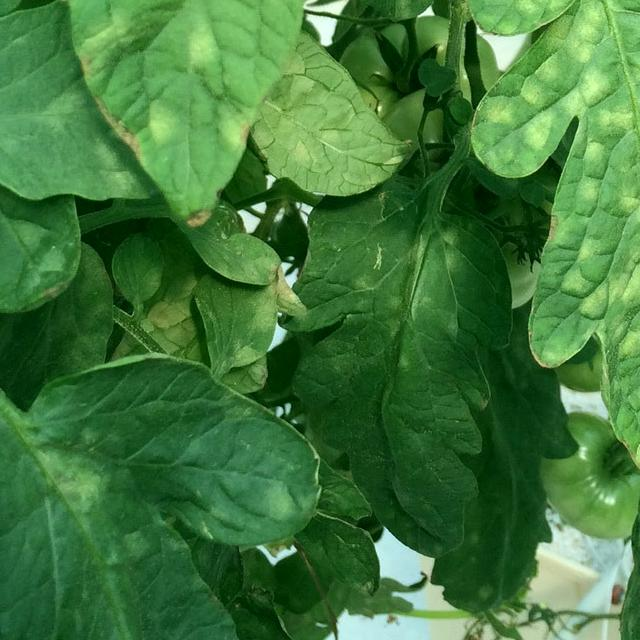Tomato mold leaf: (470, 0, 640, 531), (27, 0, 424, 218), (238, 0, 405, 203)
